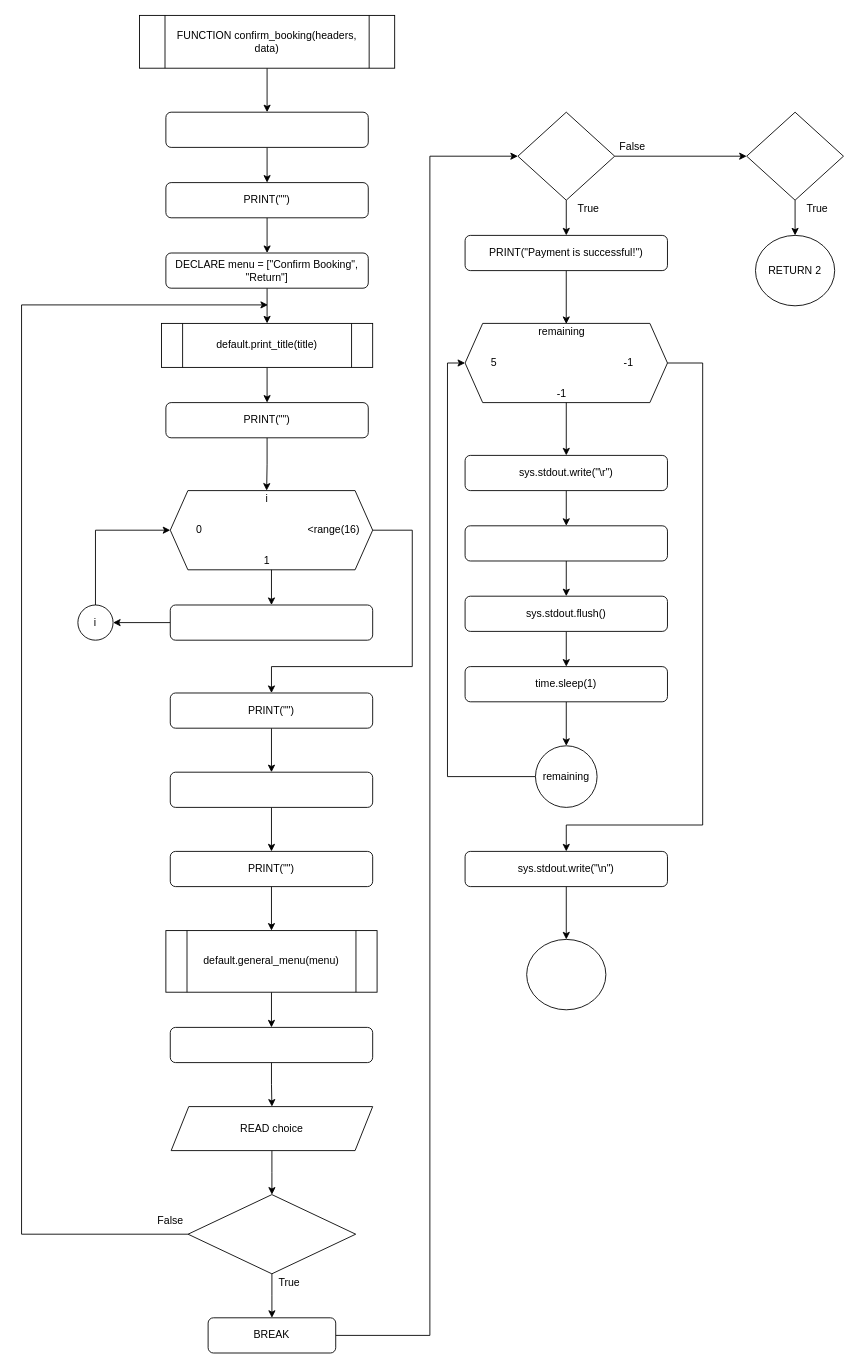
Some shapes in this 859 by 1368 pixel diagram are drawn without their labels. Here are the shapes that lost their labels. From the top down, the box of each, then its label:
(165, 111, 368, 147): title = "Booking Details"
(517, 111, 615, 200): choice == '1'
(746, 111, 843, 200): choice == '2'
(464, 525, 667, 561): sys.stdout.write("Will be directed IN {:2d}......".format(remaining))
(169, 604, 373, 640): PRINT(headers[i] + ": " + str(data[i]))
(169, 771, 373, 807): PRINT("The total amount to pay is: RM" + data[14])
(526, 939, 606, 1010): RETURN 1
(169, 1027, 373, 1063): PRINT("Please Select: ")
(187, 1194, 356, 1274): choice == '1' OR choice == '2'
